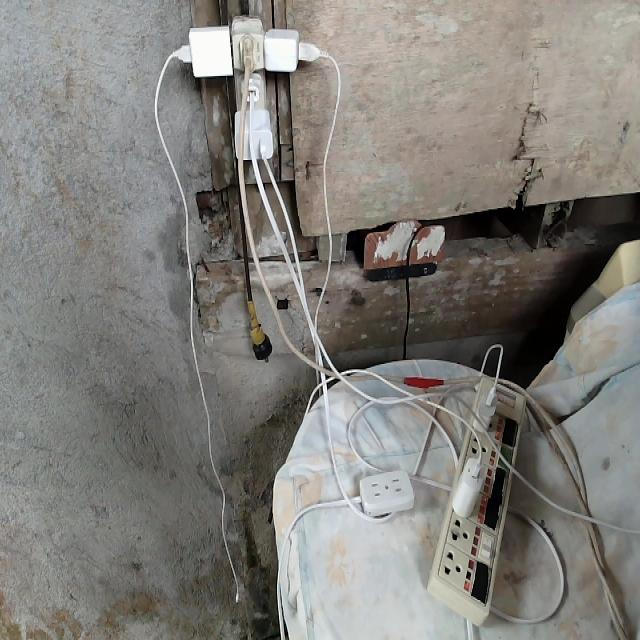-: (152, 16, 342, 164)
